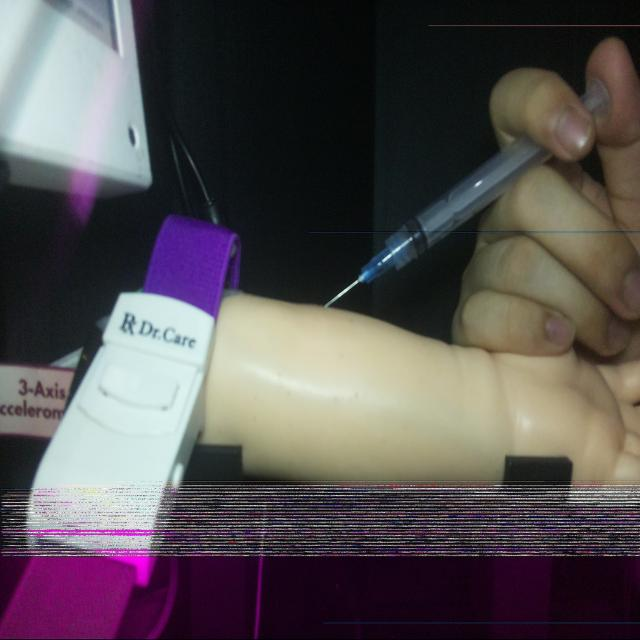29 degrees: (314, 73, 612, 310)
